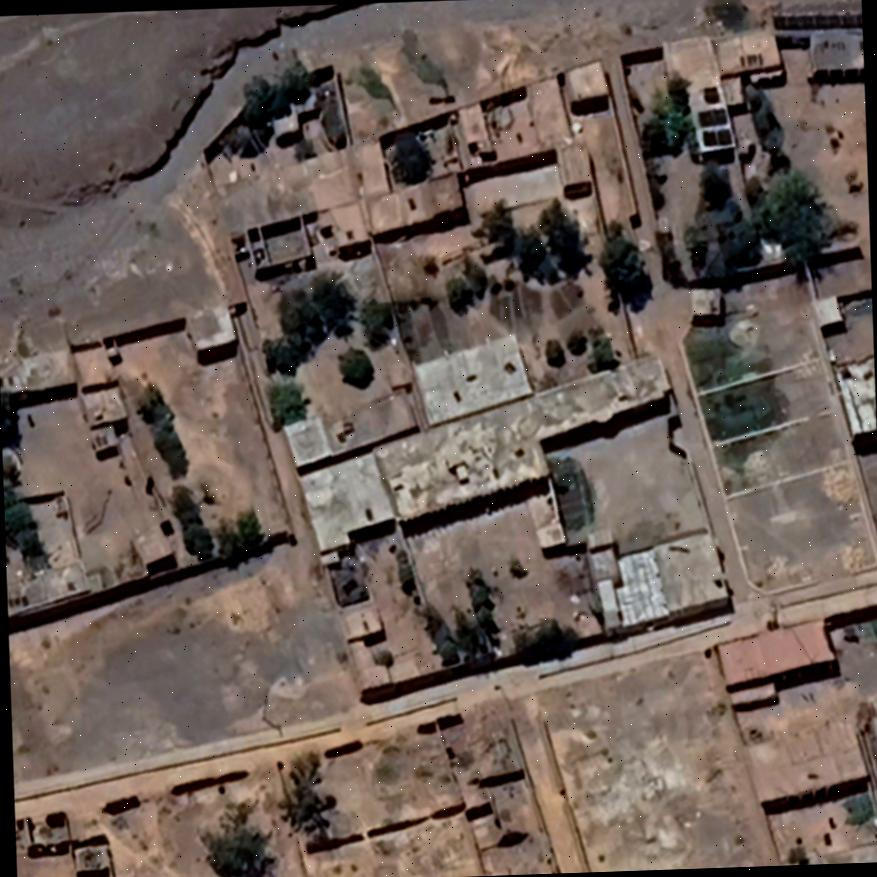Solarpanel: (689, 83, 739, 155)
